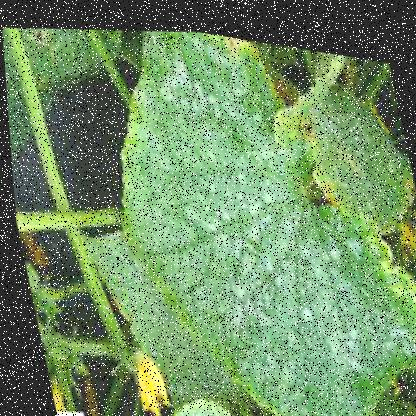PowderyMildew: (205, 195, 415, 369), (153, 84, 288, 245)
